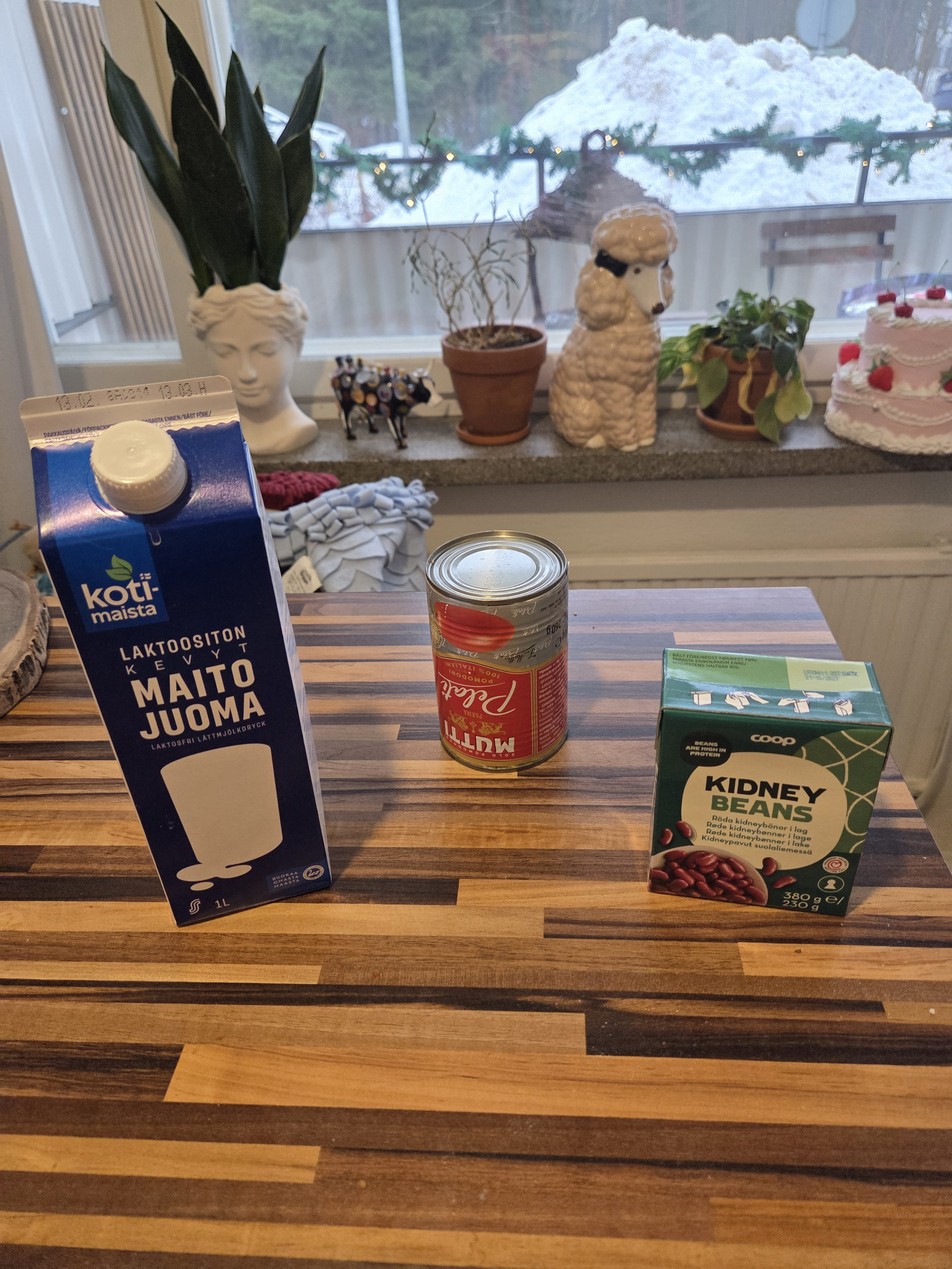Dryckeskartong: (18, 375, 334, 929)
Konservburk: (424, 529, 570, 771)
